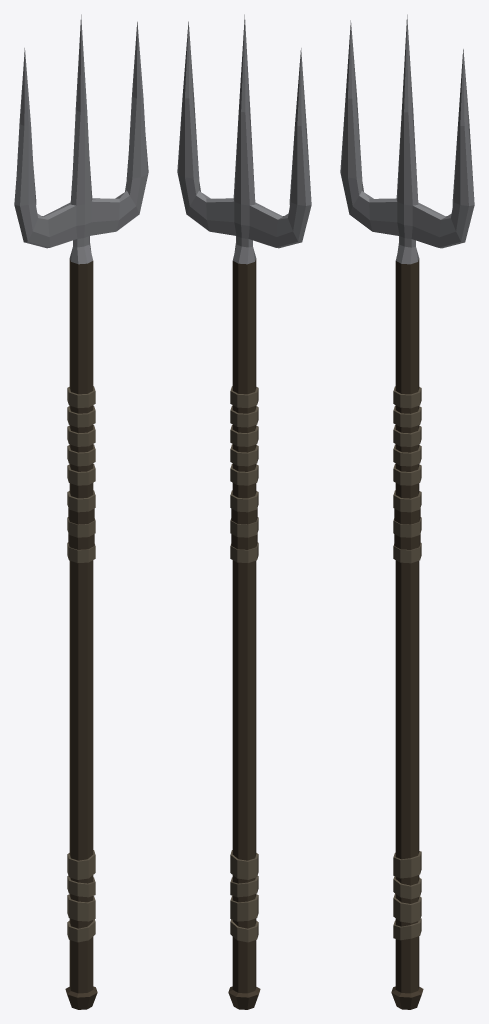
The model's file is Trident.glb.
3 renders of one model, left to right at view 1: azimuth 30°, elevation 25°; view 2: azimuth 150°, elevation 25°; view 3: azimuth 330°, elevation 25°, orthographic.
Visible parts, largest first — view 1: Trident; view 2: Trident; view 3: Trident.
Boxes of the visible parts, <box> form: Trident: <box>14,14,148,1009</box>; Trident: <box>177,14,311,1009</box>; Trident: <box>340,14,474,1009</box>.
Size of the model in its own units: 7832 by 55214 by 1685.
1 material, 1 textured.
